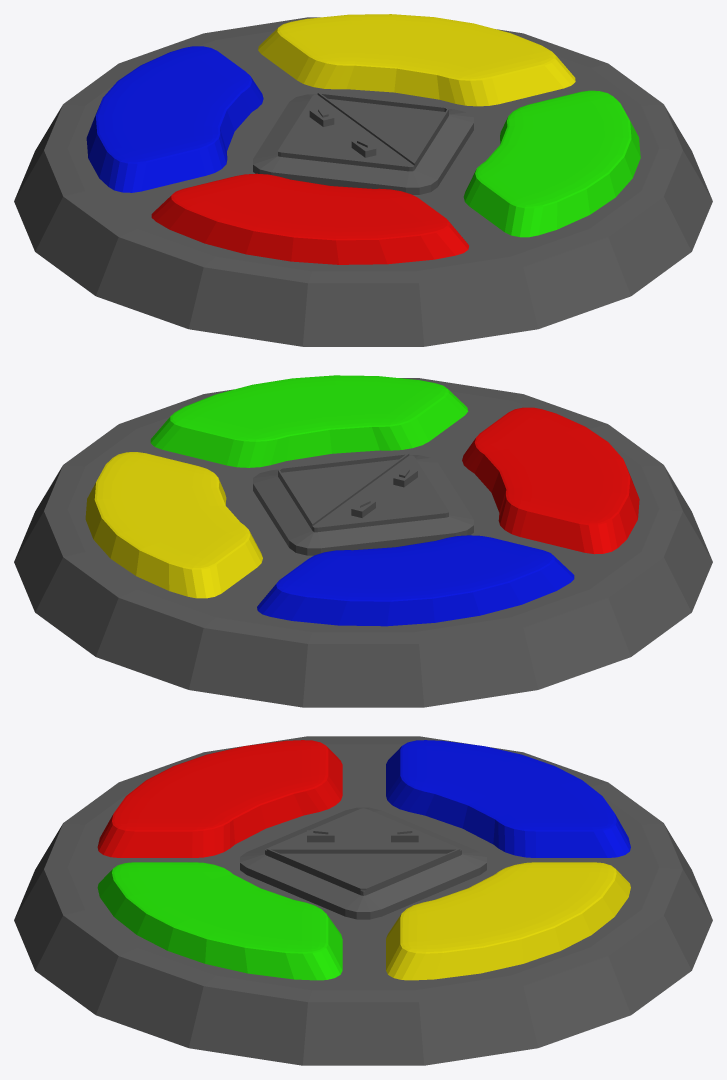
Rendered from MemoryGame.glb.
3 renders of one model, top to bottom at view 1: azimuth 30°, elevation 25°; view 2: azimuth 150°, elevation 25°; view 3: azimuth 270°, elevation 25°, orthographic.
Parts seen in each view (by area): view 1: Base, buttonYellow, buttonRed, buttonBlue, buttonGreen, Center; view 2: Base, buttonGreen, buttonBlue, buttonRed, buttonYellow, Center; view 3: Base, buttonGreen, buttonYellow, buttonRed, buttonBlue, Center.
Part boxes in pixels (x1=…): Base: x1=14, y1=17, x2=712, y2=346; buttonYellow: x1=258, y1=14, x2=575, y2=106; buttonRed: x1=151, y1=173, x2=468, y2=264; buttonBlue: x1=86, y1=46, x2=263, y2=192; buttonGreen: x1=463, y1=90, x2=640, y2=237; Center: x1=253, y1=93, x2=473, y2=194; Base: x1=14, y1=378, x2=712, y2=707; buttonGreen: x1=150, y1=375, x2=468, y2=467; buttonBlue: x1=257, y1=535, x2=574, y2=626; buttonRed: x1=462, y1=407, x2=639, y2=554; buttonYellow: x1=85, y1=452, x2=262, y2=598; Center: x1=253, y1=453, x2=473, y2=555; Base: x1=14, y1=736, x2=712, y2=1065; buttonGreen: x1=97, y1=862, x2=342, y2=980; buttonYellow: x1=386, y1=862, x2=630, y2=980; buttonRed: x1=97, y1=740, x2=342, y2=857; buttonBlue: x1=386, y1=740, x2=630, y2=857; Center: x1=240, y1=807, x2=486, y2=919.
Bounding box in the file's own units: 2.16 × 0.281 × 2.2.
